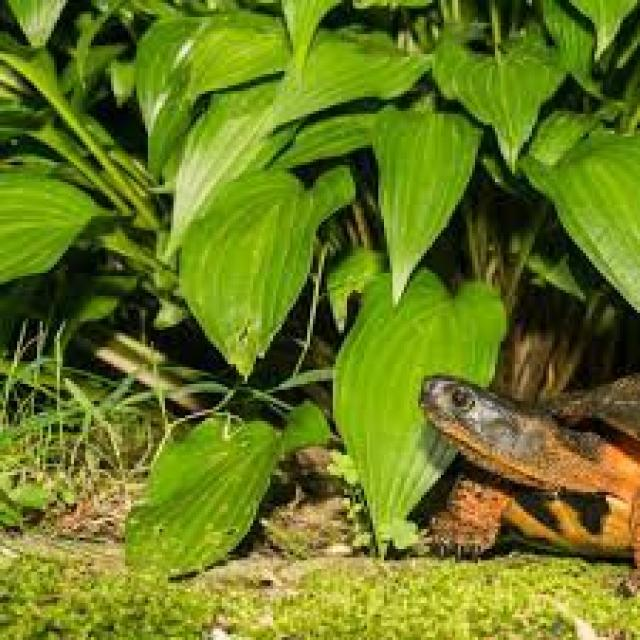turtle: (404, 365, 636, 528)
